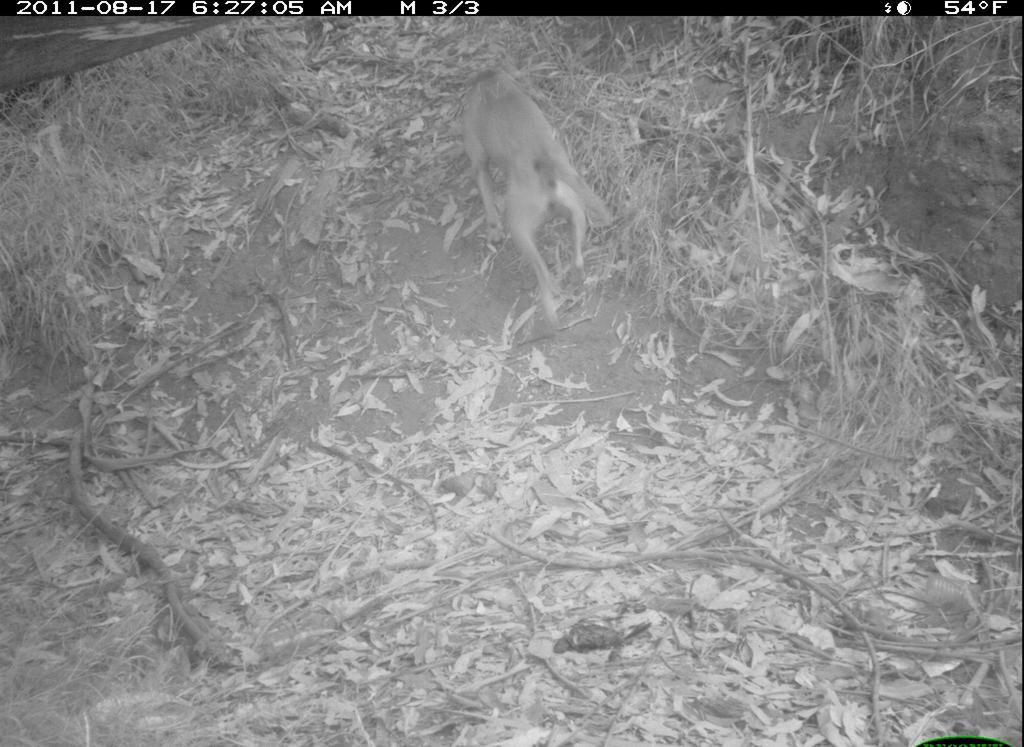dog: (440, 57, 642, 356)
